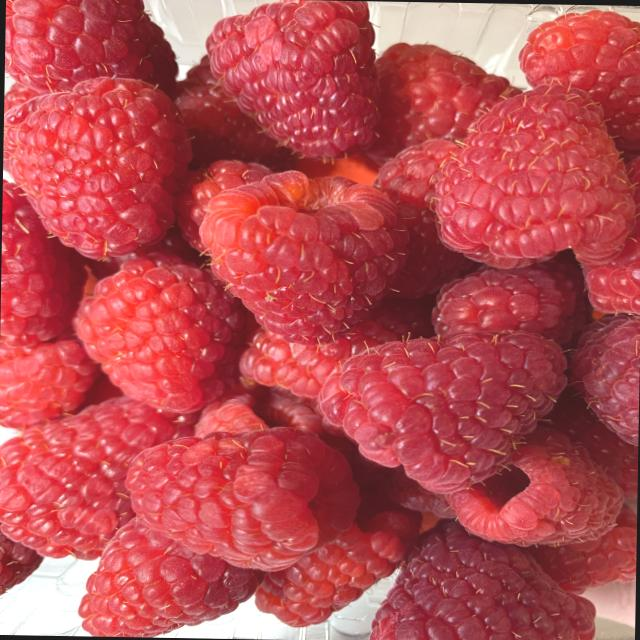raspberries: (1, 1, 626, 634)
